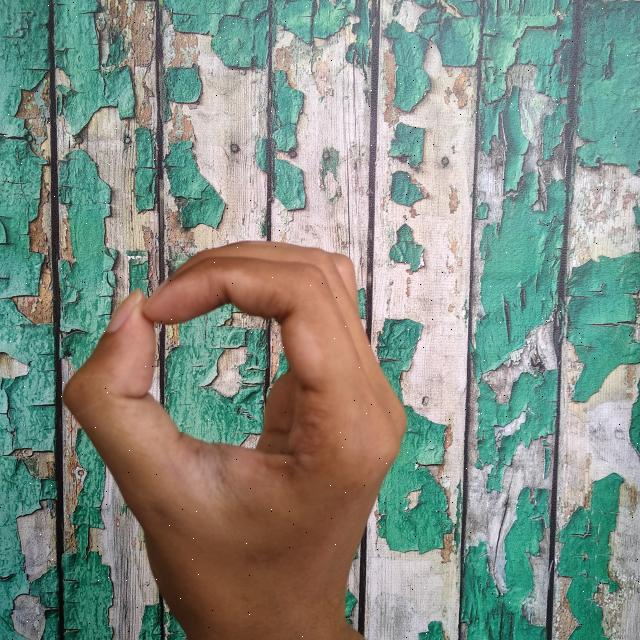O: (52, 233, 413, 640)
